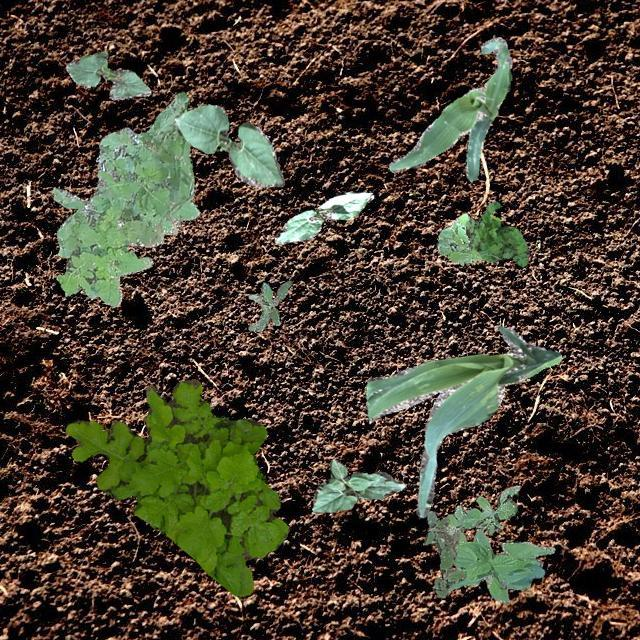crop: (367, 326, 560, 516), (388, 36, 510, 180), (174, 105, 284, 186), (448, 540, 554, 590), (274, 190, 372, 243), (310, 458, 404, 512), (64, 51, 150, 98)
weed: (65, 378, 288, 598), (52, 90, 198, 306), (430, 484, 518, 602), (464, 200, 528, 266), (424, 509, 464, 596), (436, 212, 482, 264), (248, 280, 290, 330)
